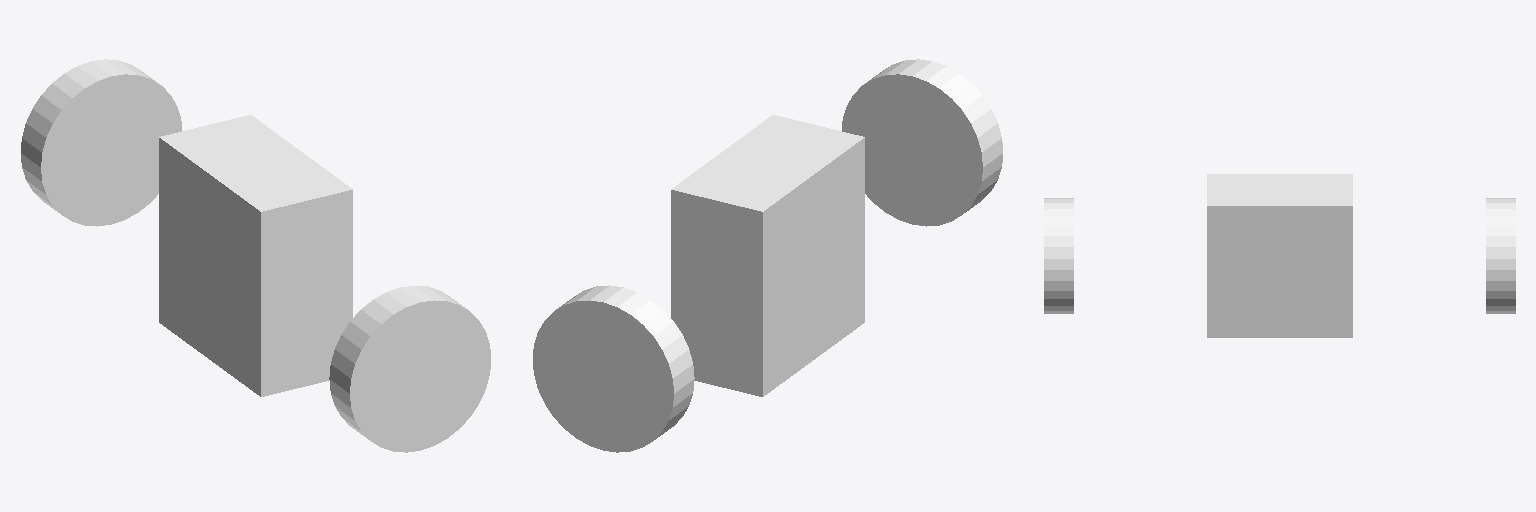
The robot description file, URDF, robot "physics":
<?xml version="1.0"?>
<robot name="physics">

    <link name="baseLink">
        <contact>
          <lateral_friction value="100.0"/>
          <inertia_scaling value="1.0"/>
        </contact>
        <inertial>
          <origin rpy="0 0 0" xyz="0 0 0"/>
           <mass value=".6"/>
           <inertia ixx="0.003125" ixy="0" ixz="0" iyy="0.003125" iyz="0" izz="0.003125"/>
        </inertial>
        <visual>
          <origin rpy="0 0 0" xyz="0 0 0"/>
          <geometry>
              <box size="0.052 0.1 0.1"/>
          </geometry>
           <material name="white">
            <color rgba="1 1 1 1"/>
          </material>
        </visual>
        <collision>
          <origin rpy="0 0 0" xyz="0 0 0"/>
          <geometry>
            <box size="0.052 0.1 0.1"/>
          </geometry>
        </collision>
    </link>

    <link name="wheel_left">
        <inertial>
          <origin rpy="0 0 0" xyz="0 0 0"/>
           <mass value=".6"/>
           <inertia ixx="0.003125" ixy="0" ixz="0" iyy="0.003125" iyz="0" izz="0.003125"/>
        </inertial>
        <visual>
          <origin rpy="0 0 0" xyz="0 0 0"/>
          <geometry>
                    <cylinder length="0.02" radius="0.04"/>
          </geometry>
           <material name="white">
            <color rgba="1 1 1 1"/>
          </material>
        </visual>
        <collision>
          <origin rpy="0 0 0" xyz="0 0 0"/>
          <geometry>
            <cylinder length="0.02" radius="0.04"/>
          </geometry>
        </collision>
    </link>

    <joint name="wheel_left_joint" type="continuous">
        <origin rpy="1.5708 0 0" xyz="0 0.151 0"/>
        <parent link="baseLink"/>
        <child link="wheel_left"/>
        <axis xyz="0 0 -1"/>
    </joint>

    <link name="wheel_right">
        <inertial>
          <origin rpy="0 0 0" xyz="0 0 0"/>
           <mass value=".6"/>
           <inertia ixx="0.003125" ixy="0" ixz="0" iyy="0.003125" iyz="0" izz="0.003125"/>
        </inertial>
        <visual>
          <origin rpy="0 0 0" xyz="0 0 0"/>
          <geometry>
                    <cylinder length="0.02" radius="0.04"/>
          </geometry>
           <material name="white">
            <color rgba="1 1 1 1"/>
          </material>
        </visual>
        <collision>
          <origin rpy="0 0 0" xyz="0 0 0"/>
          <geometry>
            <cylinder length="0.02" radius="0.04"/>
          </geometry>
        </collision>
    </link>

    <joint name="wheel_right_joint" type="continuous">
        <origin rpy="1.5708 0 0" xyz="0 -0.151 0"/>
        <parent link="baseLink"/>
        <child link="wheel_right"/>
        <axis xyz="0 0 -1"/>
    </joint>




</robot>

--- Facts derived from the render (not from the file) ---
The picture shows the robot from 3 angles, left to right: view 1: azimuth 30°, elevation 25°; view 2: azimuth 150°, elevation 25°; view 3: azimuth 270°, elevation 25°; orthographic projection.
Model physics with 3 links and 2 joints (2 continuous), rooted at baseLink, posed all joints at 0.
Visible links, largest first — view 1: baseLink, wheel_right, wheel_left; view 2: baseLink, wheel_left, wheel_right; view 3: baseLink, wheel_left, wheel_right.
Link boxes in pixels (<box>): baseLink: <box>159,115,352,396</box>; wheel_right: <box>329,285,490,452</box>; wheel_left: <box>21,59,181,226</box>; baseLink: <box>671,115,864,396</box>; wheel_left: <box>533,285,694,452</box>; wheel_right: <box>842,59,1002,226</box>; baseLink: <box>1207,174,1352,337</box>; wheel_left: <box>1486,198,1515,313</box>; wheel_right: <box>1044,198,1073,313</box>.
Bounding box of the posed robot: 0.08 × 0.322 × 0.1 m (x, y, z).
Geometry: primitives only (box / cylinder / sphere), no mesh files.